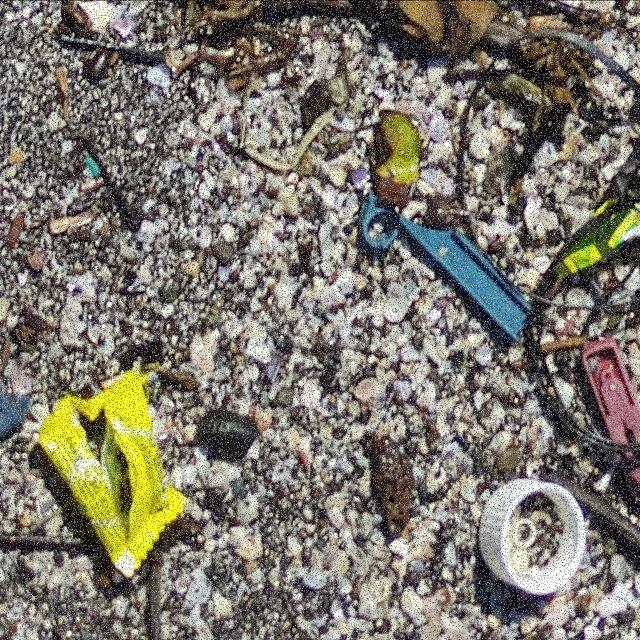plastic_waste: (39, 365, 193, 578), (477, 481, 587, 600)
